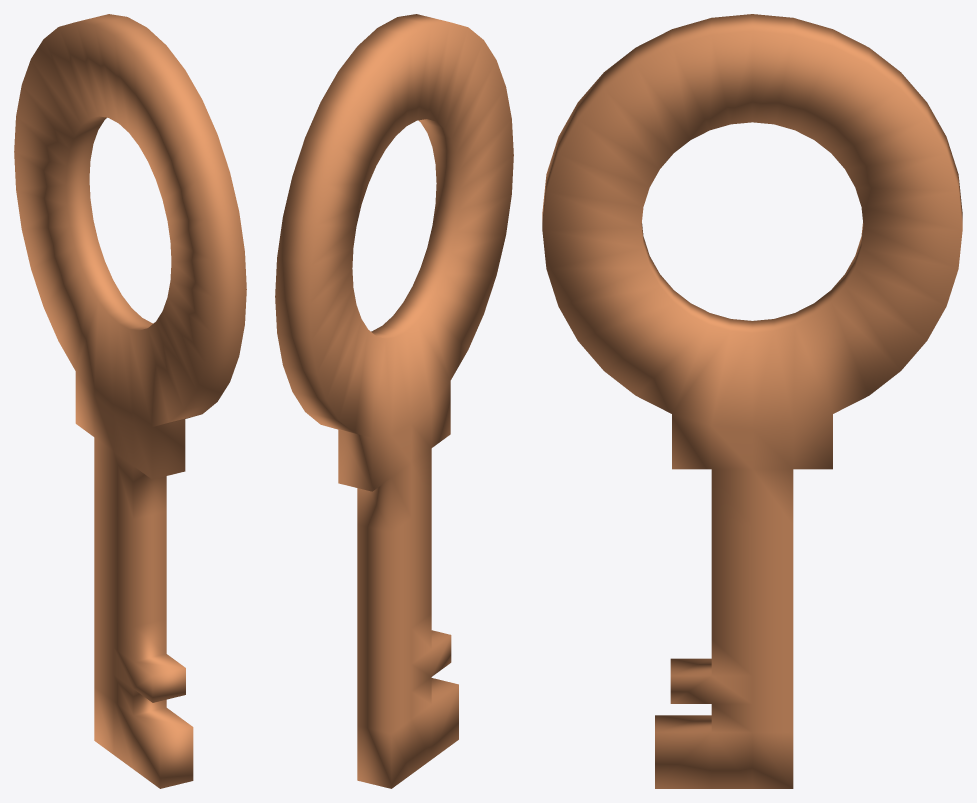
The model's file is Key_LOD_middle.fbx.
3 renders of one model, left to right at view 1: azimuth 30°, elevation 25°; view 2: azimuth 150°, elevation 25°; view 3: azimuth 270°, elevation 25°, orthographic. The views are drawn at different scales.
Visible parts, largest first — view 1: SM_Key_LOD_middle; view 2: SM_Key_LOD_middle; view 3: SM_Key_LOD_middle.
Boxes of the visible parts, x1,y1,x2,y2 form: SM_Key_LOD_middle: [14, 14, 246, 788]; SM_Key_LOD_middle: [275, 14, 513, 788]; SM_Key_LOD_middle: [542, 14, 962, 788].
Bounding box in the file's own units: 7.27 × 150 × 75.5.
